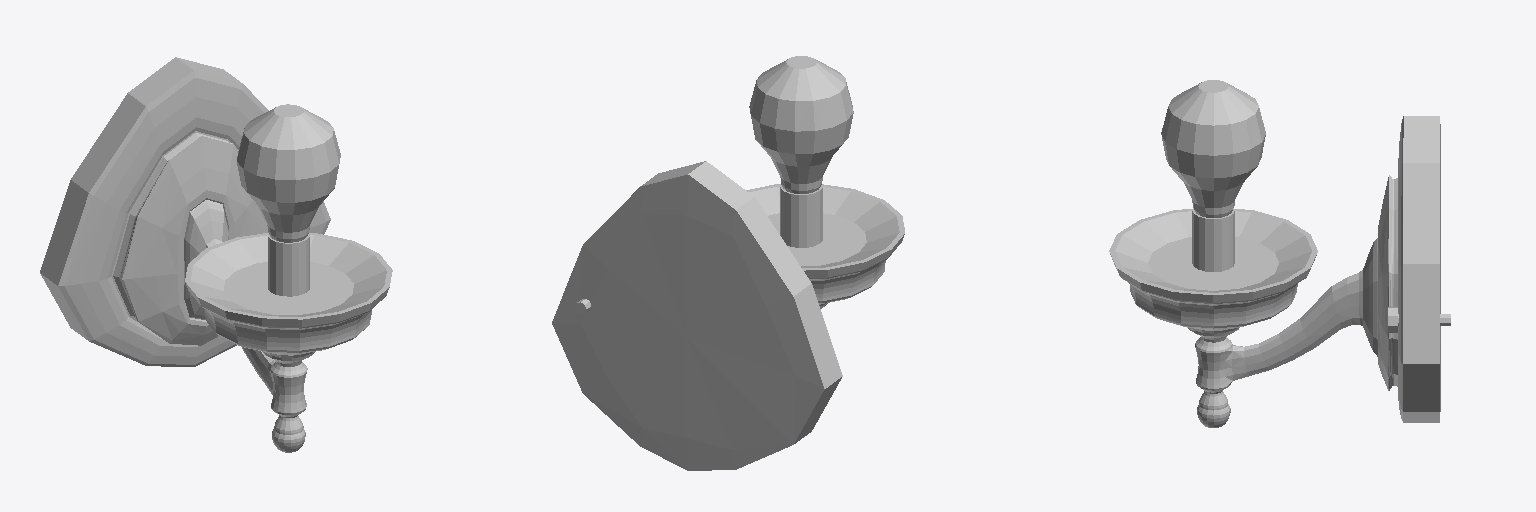
Rendered from suporte.obj.
3 views of the same model, side by side, from view 1: azimuth 30°, elevation 25°; view 2: azimuth 150°, elevation 25°; view 3: azimuth 270°, elevation 25° (orthographic).
Parts seen in each view (by area): view 1: Cylinder.001; view 2: Cylinder.001; view 3: Cylinder.001.
Part boxes in pixels (x1,y1,x2,y2): Cylinder.001: (40,57,392,452); Cylinder.001: (552,56,904,470); Cylinder.001: (1109,80,1450,427).
Bounding box in the file's own units: 1.89 × 2.25 × 2.05.